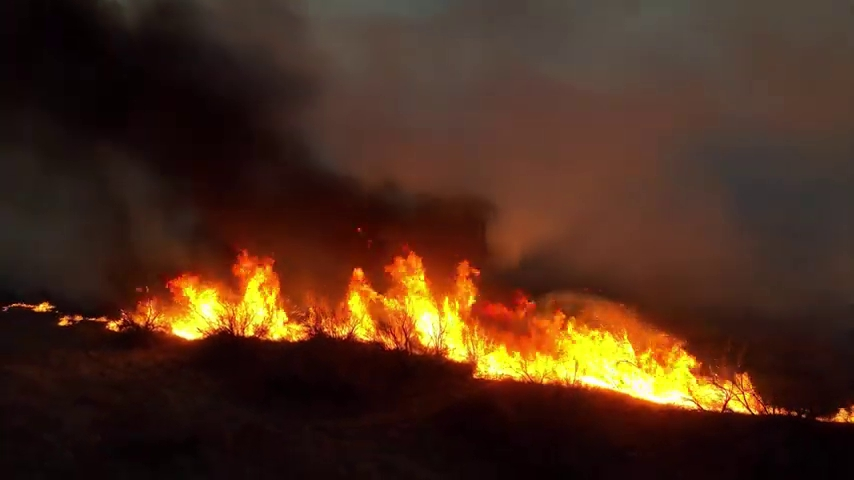forest_fire: (60, 249, 789, 413), (819, 407, 853, 420), (4, 302, 53, 311), (634, 327, 635, 329)
